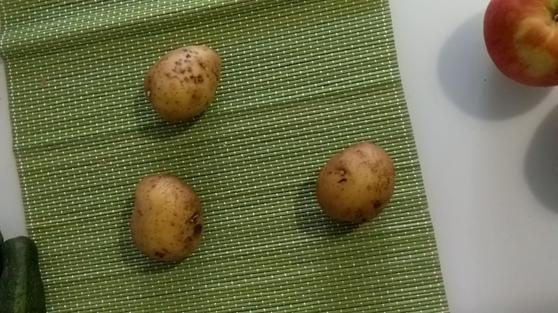potato: (315, 142, 396, 222), (130, 175, 202, 261), (146, 44, 222, 123)
